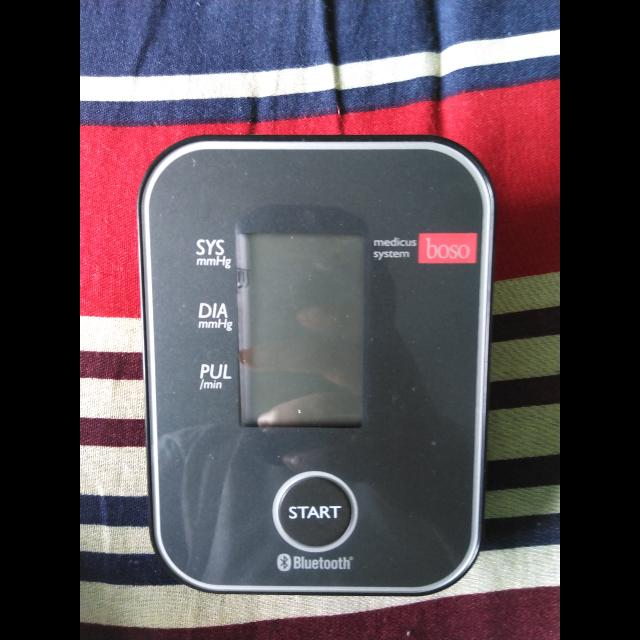Blood-Pressure-Monitor: (122, 113, 494, 612)
